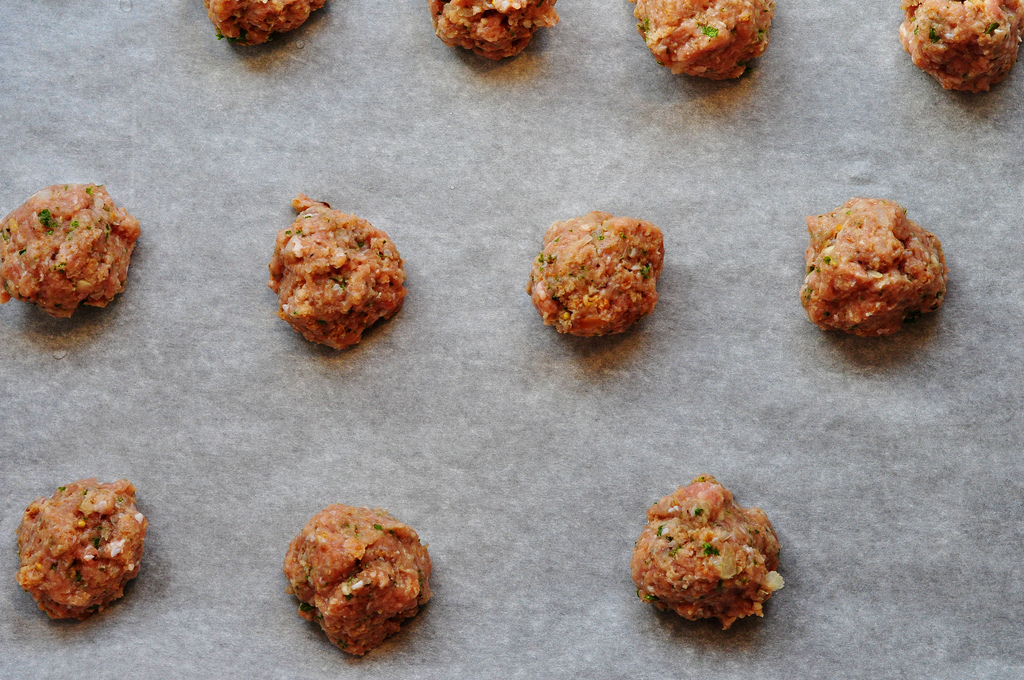meatballs: (641, 489, 783, 630), (802, 212, 948, 340), (302, 511, 433, 643), (1, 193, 133, 318), (277, 213, 395, 343), (536, 223, 661, 340), (22, 489, 131, 622), (643, 1, 769, 76), (924, 1, 1012, 91), (429, 1, 548, 56)
